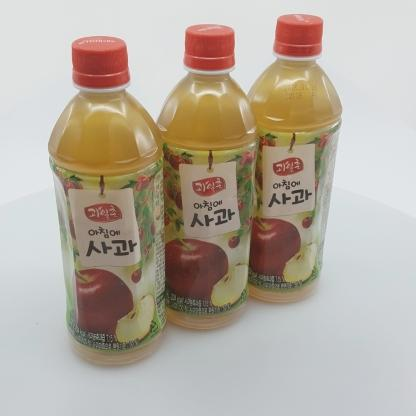--------500ML: (47, 36, 167, 364), (155, 24, 259, 329), (246, 14, 342, 302)
